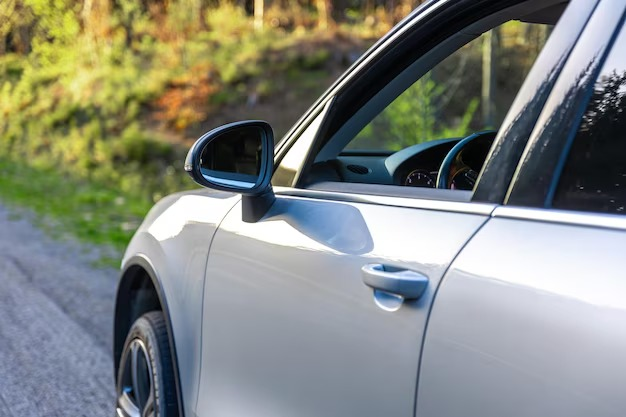car: (71, 5, 626, 417)
